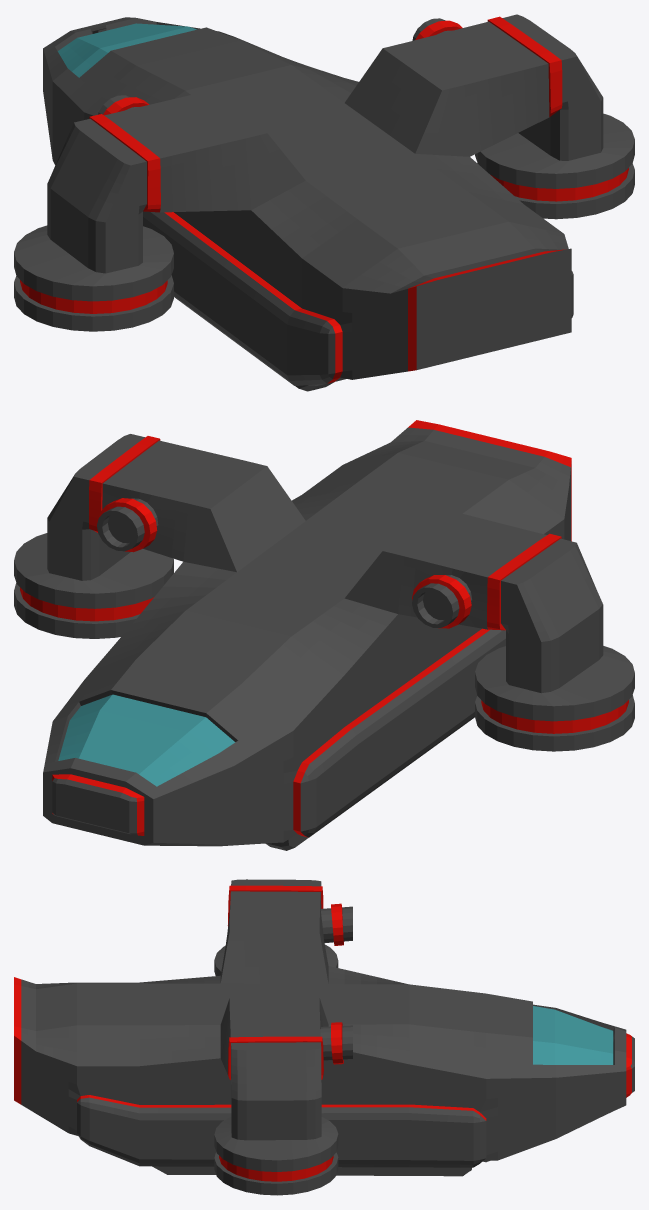
File: TankEnemy.fbx
The picture shows the model from 3 angles, top to bottom: view 1: azimuth 30°, elevation 25°; view 2: azimuth 150°, elevation 25°; view 3: azimuth 270°, elevation 25°; orthographic projection. The views are drawn at different scales.
Parts seen in each view (by area): view 1: Tank; view 2: Tank; view 3: Tank.
Boxes of the visible parts, bbox=[...] form: Tank: bbox=[14, 14, 634, 391]; Tank: bbox=[14, 420, 634, 850]; Tank: bbox=[14, 879, 634, 1195].
Bounding box in the file's own units: 1227 × 459 × 1423.
